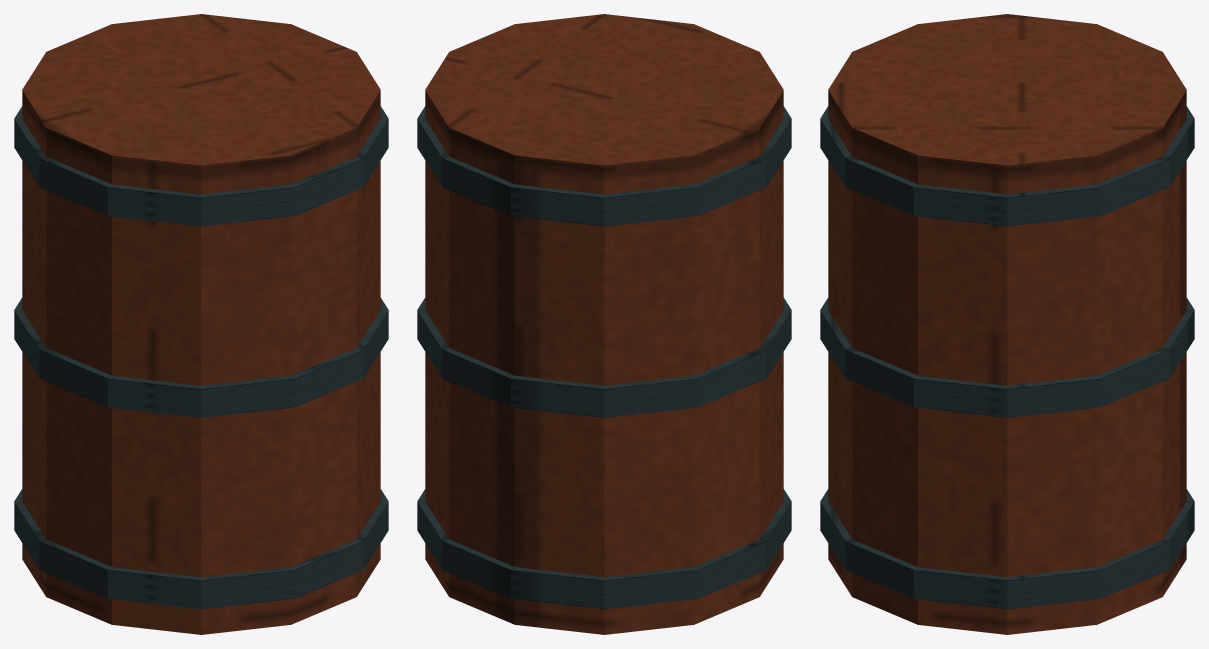
Rendered from barrel.glb.
3 views of the same model, side by side, from view 1: azimuth 30°, elevation 25°; view 2: azimuth 150°, elevation 25°; view 3: azimuth 270°, elevation 25° (orthographic).
Visible parts, largest first — view 1: barrel_rust.011, barrel_metal.011; view 2: barrel_rust.011, barrel_metal.011; view 3: barrel_rust.011, barrel_metal.011.
Part boxes in pixels (left/top/right/bottom): barrel_rust.011: left=22, top=14, right=380, bottom=634; barrel_metal.011: left=14, top=106, right=388, bottom=609; barrel_rust.011: left=425, top=14, right=783, bottom=634; barrel_metal.011: left=417, top=106, right=791, bottom=609; barrel_rust.011: left=828, top=14, right=1186, bottom=634; barrel_metal.011: left=820, top=106, right=1194, bottom=609.
Size of the model in its own units: 0.94 by 1.3 by 0.94.
2 materials, 2 textured.
